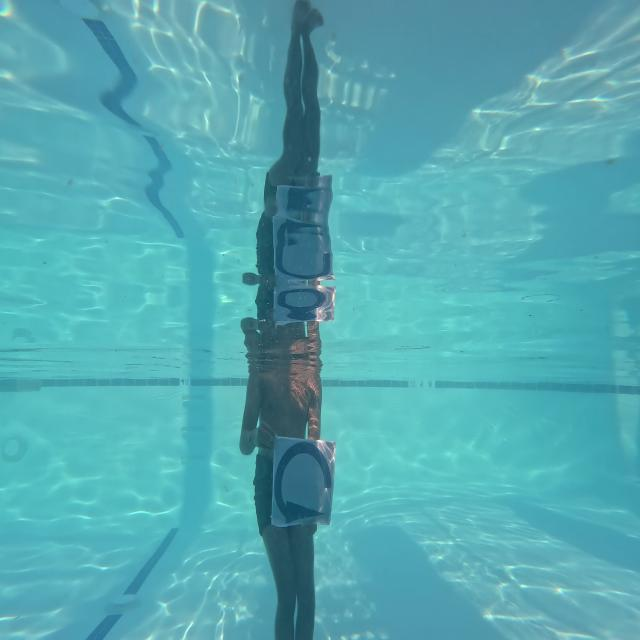blue_side: (271, 432, 335, 532)
